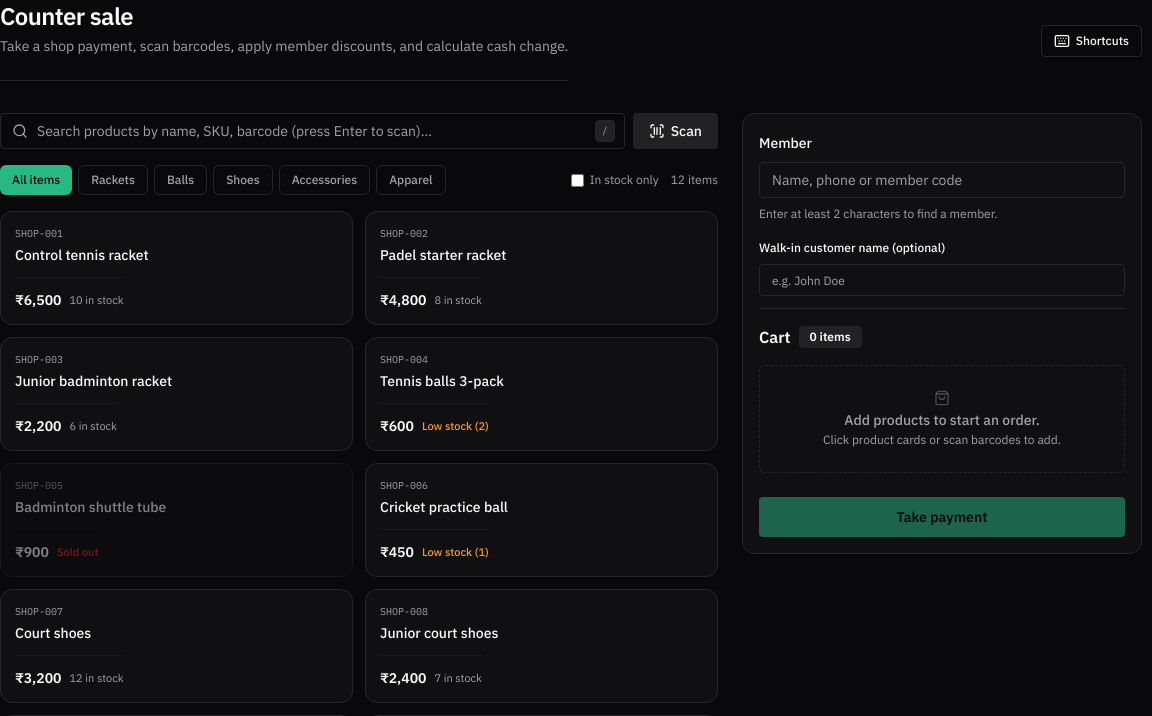
Counter sale POS (Issue #71) › opens keyboard shortcuts modal
Click the button with aria-label "View keyboard shortcuts" at (1091, 40), box [1041,24,1142,56]
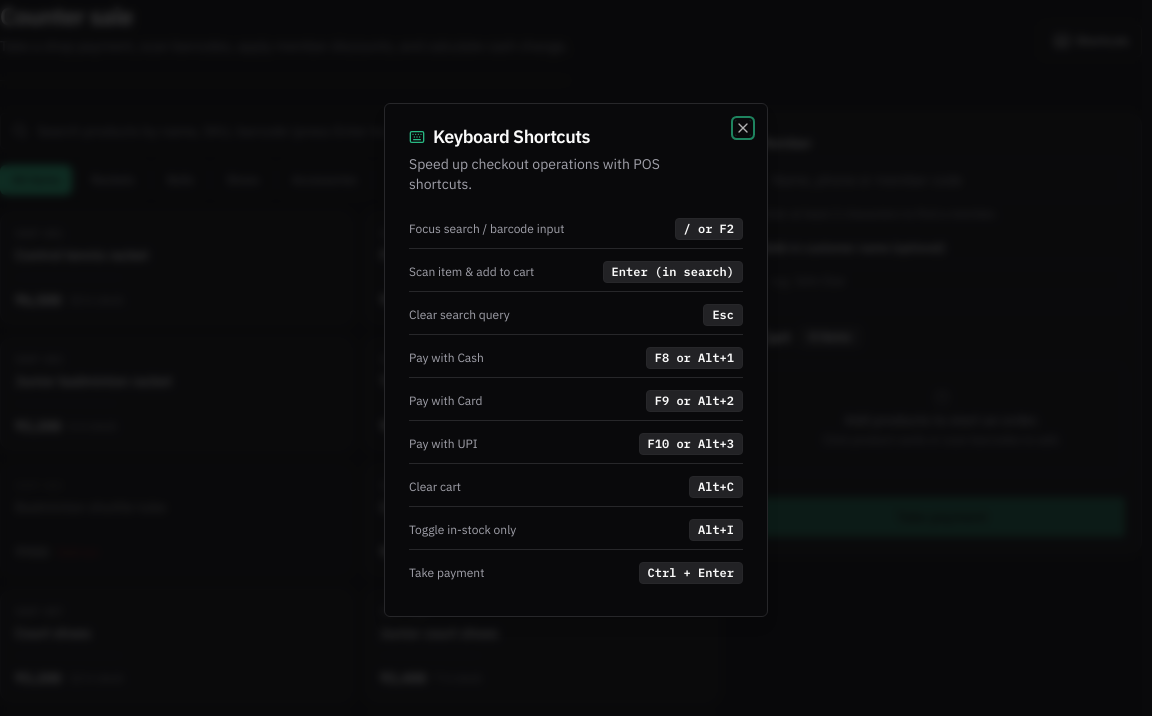
Result: the heading "Keyboard Shortcuts" is shown at [409,125,590,148]
Result: the text "Focus search / barcode input" is shown at [409,221,564,237]
